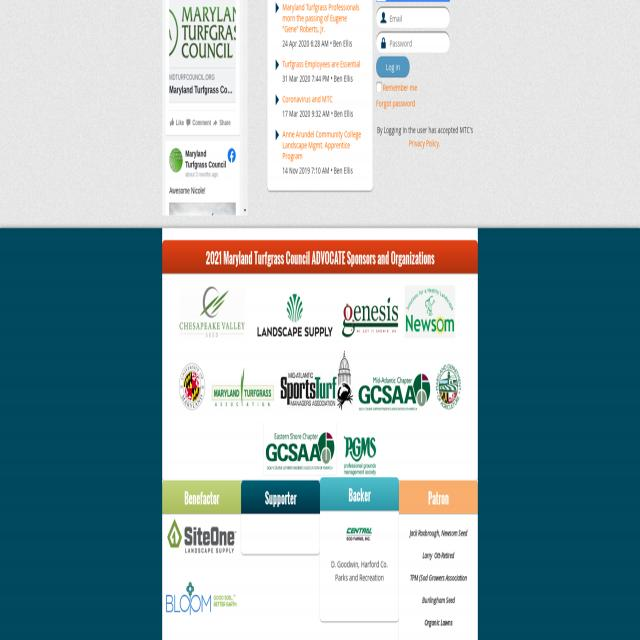button: (281, 350, 353, 411), (263, 422, 337, 476), (180, 287, 244, 338), (163, 578, 241, 619), (257, 294, 333, 336), (212, 368, 274, 410), (405, 286, 455, 338), (358, 374, 430, 410), (341, 297, 399, 338), (168, 518, 236, 552), (343, 435, 377, 476), (179, 363, 205, 410), (435, 364, 461, 411), (376, 56, 410, 78), (344, 522, 375, 546)
field: (376, 8, 450, 29), (377, 32, 450, 52), (376, 81, 382, 92)
